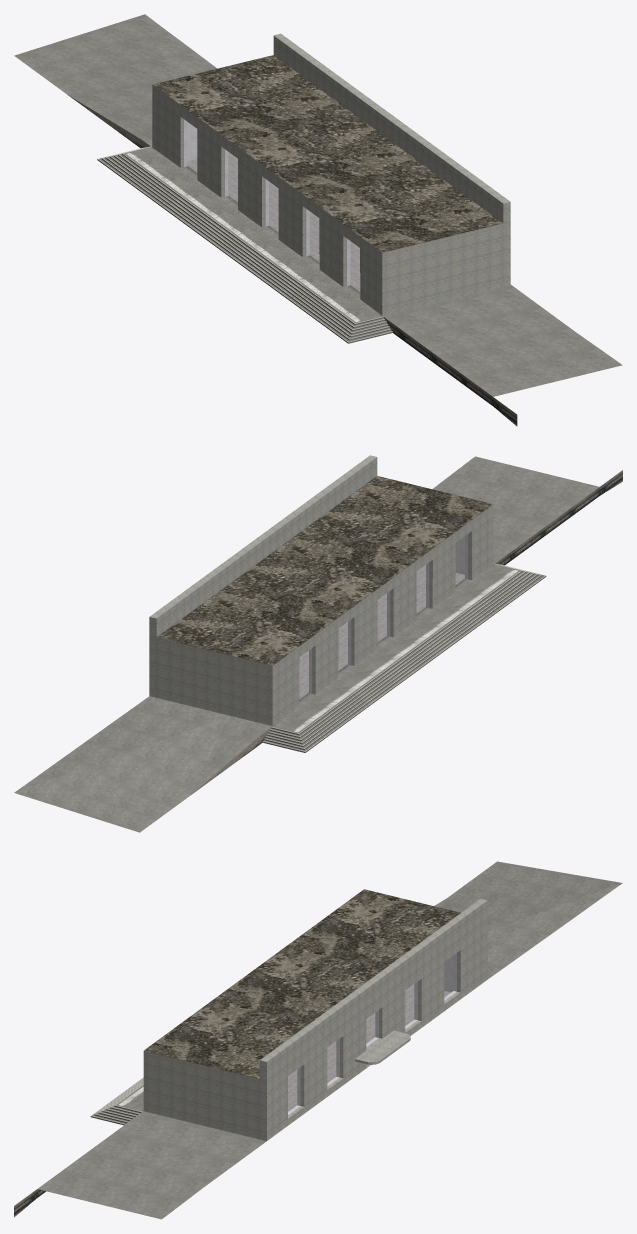
File: station.obj
The picture shows the model from 3 angles, top to bottom: view 1: azimuth 30°, elevation 25°; view 2: azimuth 150°, elevation 25°; view 3: azimuth 330°, elevation 25°; orthographic projection. The views are drawn at different scales.
Visible parts, largest first — view 1: station; view 2: station; view 3: station.
Part boxes in pixels (box(x1,y1,x2,y2)): station: box(14, 14, 622, 426); station: box(14, 455, 622, 832); station: box(14, 861, 622, 1219).
Size of the model in its own units: 29.91 by 13.96 by 134.
8 materials, 8 textured.
